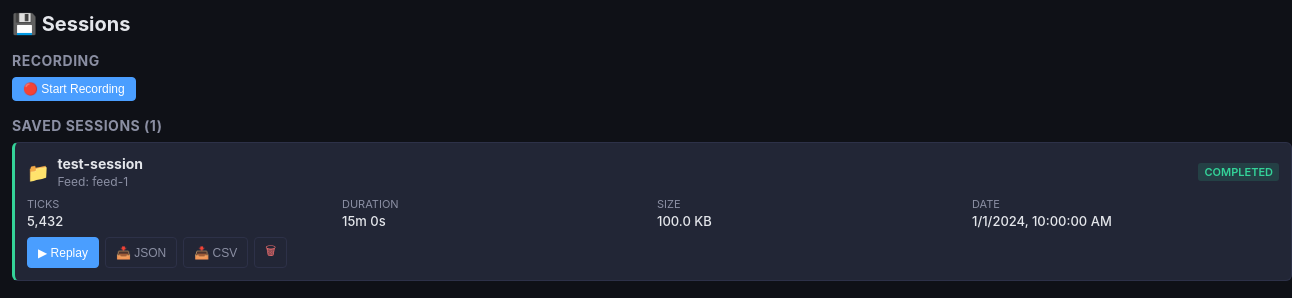
Test: SessionManager › shows delete button with confirmation
Check: the text "test-session" is shown, box 58,155 -> 143,172
Click the button titled "Delete session": click(271, 252) 254,237 -> 287,268
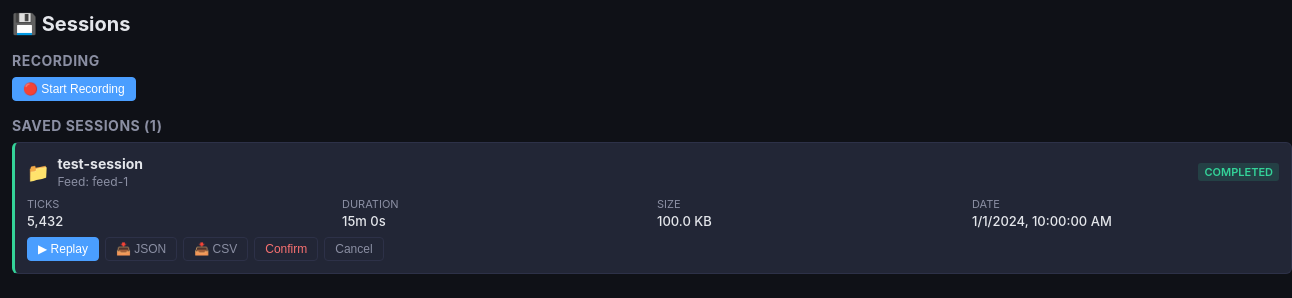
Check: the button "Confirm" is shown, box 254,237 -> 318,261
Check: the button "Cancel" is shown, box 324,237 -> 384,261
